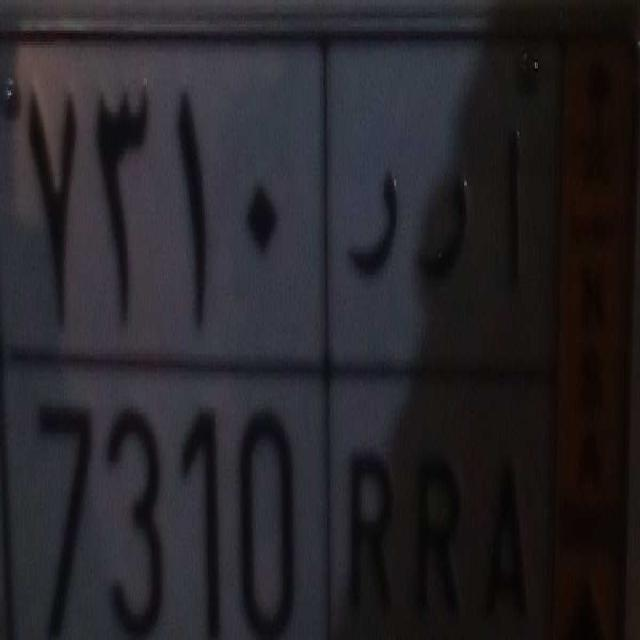license_plate: (0, 348, 568, 640)
